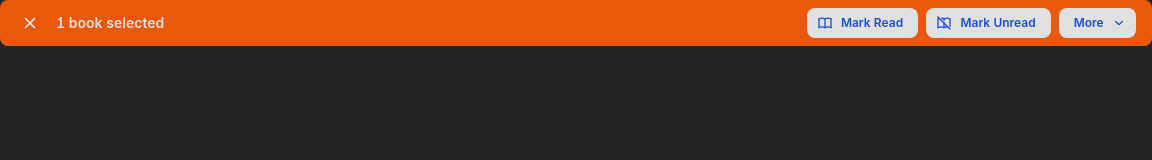
Scenario: BulkSelectionToolbar › reader permissions › shows a More menu with only Want to Read for reader users selecting books
Expected: the text "1 book selected" is shown, top-left (56, 13), bottom-right (164, 33)
Expected: the button "Mark Read" is shown, top-left (807, 8), bottom-right (918, 38)
Click the button with aria-label "more actions" at (1097, 23), box top-left (1059, 8), bottom-right (1136, 38)
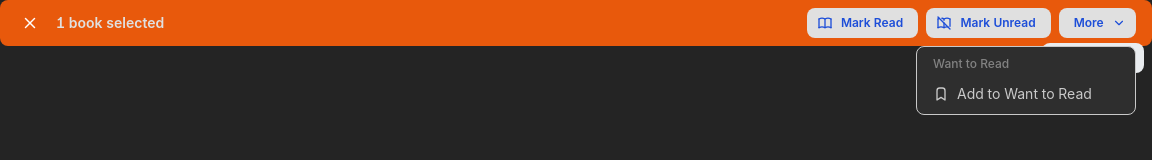
Result: the text "Add to Want to Read" is shown at top-left (957, 85), bottom-right (1092, 102)
